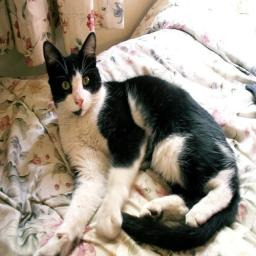catnose: (75, 98, 85, 108)
